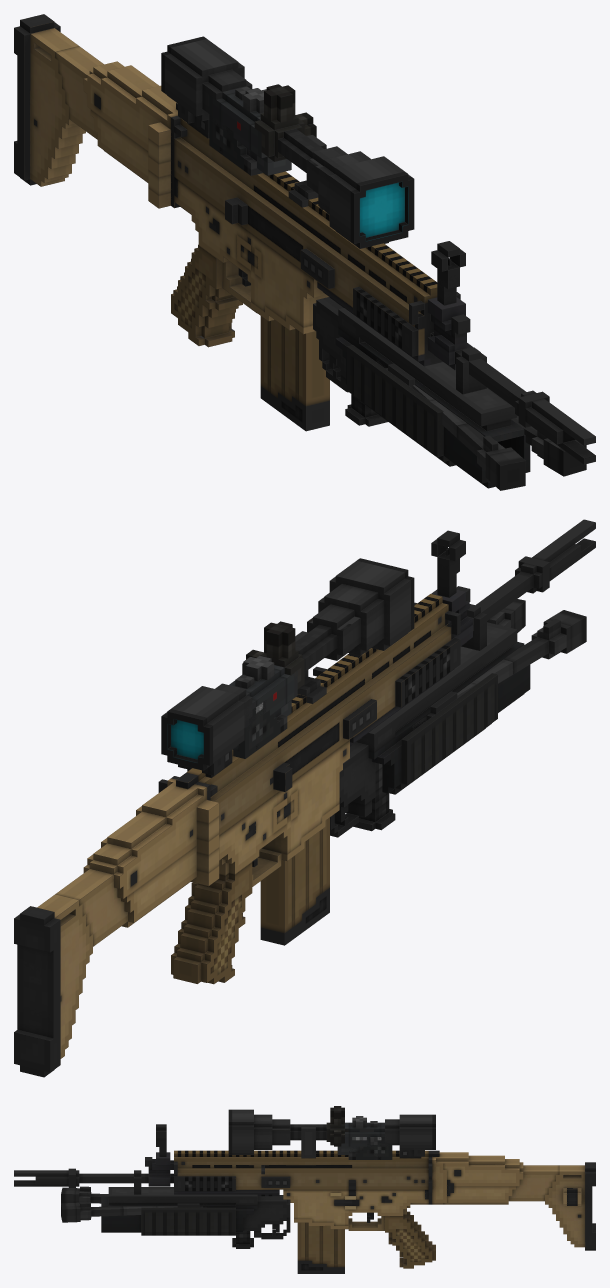
Rendered from RD_SCAR_H.glb.
The picture shows the model from 3 angles, top to bottom: view 1: azimuth 30°, elevation 25°; view 2: azimuth 150°, elevation 25°; view 3: azimuth 270°, elevation 25°; orthographic projection. The views are drawn at different scales.
Visible parts, largest first — view 1: FN_SCAR, SCOPE_SCHMIDT_BENDER, GP_M203, FN_SCAR_CLIP, SCOPE_TASCO, DIPOD2_LEG1, FN_SCAR_SCOPE, SCOPE_EOTECH, DIPOD2_LEG2, GRIP1; view 2: FN_SCAR, SCOPE_SCHMIDT_BENDER, GP_M203, FN_SCAR_CLIP, DIPOD2_LEG1, SCOPE_TASCO, FN_SCAR_SCOPE, SCOPE_EOTECH, GRIP1, DIPOD2_LEG2; view 3: FN_SCAR, GP_M203, SCOPE_SCHMIDT_BENDER, FN_SCAR_CLIP, SCOPE_TASCO, DIPOD2_LEG2, SCOPE_EOTECH, DIPOD2_LEG1, FN_SCAR_SCOPE, GRIP1.
Boxes of the visible parts, x1,y1,x2,y2 form: FN_SCAR: (14, 14, 595, 464); SCOPE_SCHMIDT_BENDER: (161, 36, 414, 248); GP_M203: (313, 297, 530, 488); FN_SCAR_CLIP: (260, 316, 329, 431); SCOPE_TASCO: (209, 86, 273, 175); DIPOD2_LEG1: (412, 385, 525, 490); FN_SCAR_SCOPE: (178, 103, 465, 305); SCOPE_EOTECH: (209, 110, 291, 175); DIPOD2_LEG2: (511, 416, 586, 476); GRIP1: (345, 394, 387, 426); FN_SCAR: (14, 519, 595, 1077); SCOPE_SCHMIDT_BENDER: (161, 558, 414, 770); GP_M203: (330, 604, 530, 837); FN_SCAR_CLIP: (260, 817, 329, 945); DIPOD2_LEG1: (457, 610, 586, 697); SCOPE_TASCO: (229, 655, 297, 750); FN_SCAR_SCOPE: (178, 530, 465, 777); SCOPE_EOTECH: (233, 700, 291, 758); GRIP1: (353, 762, 395, 831); DIPOD2_LEG2: (487, 599, 525, 632); FN_SCAR: (14, 1150, 595, 1268); GP_M203: (101, 1170, 290, 1239); SCOPE_SCHMIDT_BENDER: (228, 1106, 435, 1158); FN_SCAR_CLIP: (297, 1222, 344, 1273); SCOPE_TASCO: (341, 1116, 391, 1159); DIPOD2_LEG2: (61, 1202, 177, 1222); SCOPE_EOTECH: (337, 1137, 392, 1159); DIPOD2_LEG1: (61, 1186, 108, 1203); FN_SCAR_SCOPE: (156, 1124, 424, 1158); GRIP1: (232, 1231, 253, 1248).
Bounding box in the file's own units: 0.1404 × 0.4823 × 1.57.
Materials: 9 (9 with a texture image).
